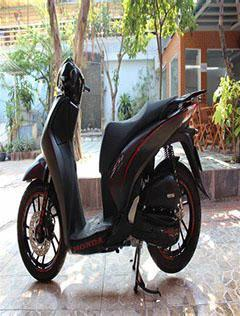motorcycle: (6, 34, 232, 308)
